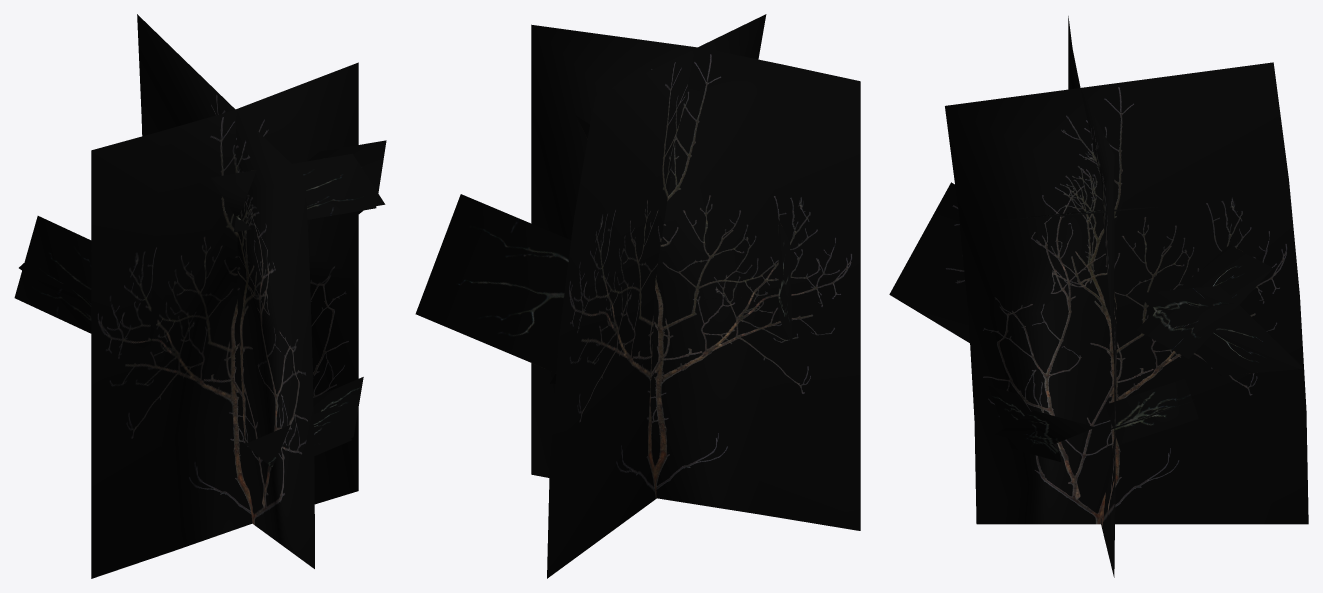
The model's file is dead_tree.FBX.
3 renders of one model, left to right at view 1: azimuth 30°, elevation 25°; view 2: azimuth 150°, elevation 25°; view 3: azimuth 270°, elevation 25°, orthographic. The views are drawn at different scales.
Parts seen in each view (by area): view 1: dead_tree; view 2: dead_tree; view 3: dead_tree.
Part boxes in pixels (box(x1,y1,x2,y2)): dead_tree: box(14, 14, 386, 578); dead_tree: box(415, 14, 860, 578); dead_tree: box(889, 16, 1308, 577).
Size of the model in its own units: 161 by 200 by 170.
Materials: 1 (1 with a texture image).
